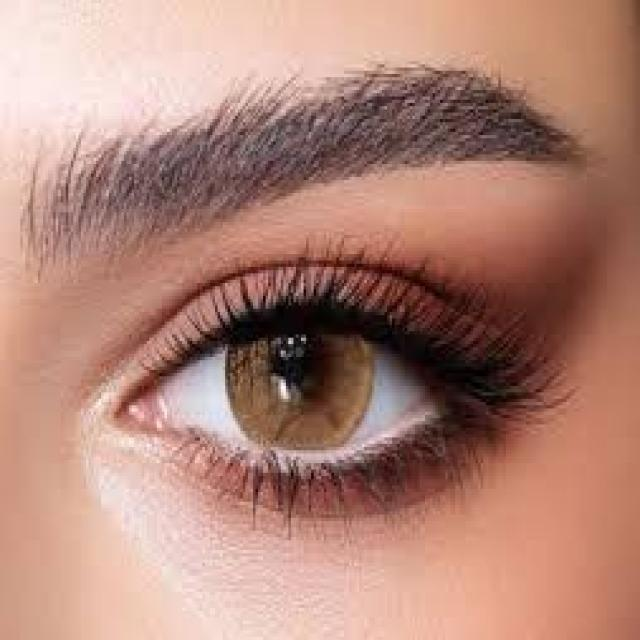Normal: (34, 198, 556, 570)
